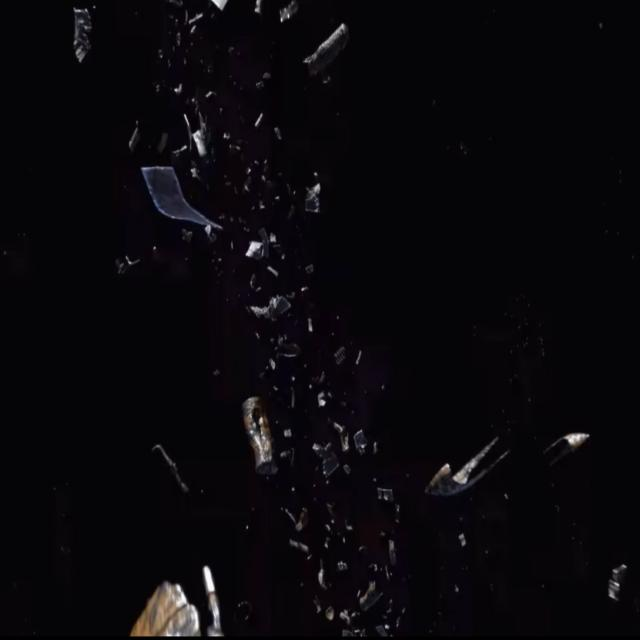large_debris: (121, 552, 237, 640), (420, 413, 513, 508), (134, 151, 228, 240), (229, 381, 282, 482), (598, 528, 640, 630), (301, 13, 360, 82), (536, 415, 594, 474), (178, 100, 220, 164), (243, 285, 296, 332), (63, 4, 93, 65), (240, 220, 272, 269), (310, 435, 342, 483), (354, 572, 384, 612), (301, 171, 325, 220), (351, 420, 374, 460), (276, 0, 304, 25), (273, 122, 285, 146)
